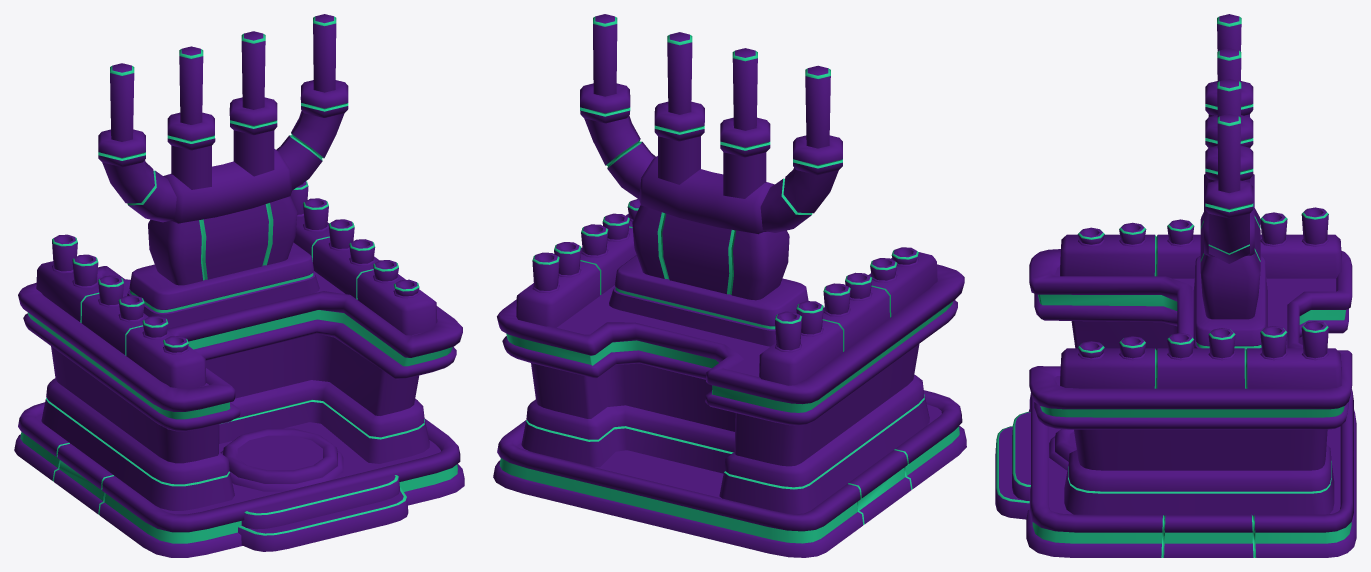
File: Aaltar_var3.fbx
3 views of the same model, side by side, from view 1: azimuth 30°, elevation 25°; view 2: azimuth 150°, elevation 25°; view 3: azimuth 270°, elevation 25° (orthographic). The views are drawn at different scales.
Parts seen in each view (by area): view 1: Aaltar_var3; view 2: Aaltar_var3; view 3: Aaltar_var3.
Part boxes in pixels (x1=…): Aaltar_var3: x1=14, y1=14, x2=464, y2=557; Aaltar_var3: x1=493, y1=14, x2=966, y2=557; Aaltar_var3: x1=995, y1=14, x2=1356, y2=557.
Size of the model in its own units: 74.15 by 92.39 by 73.32.
